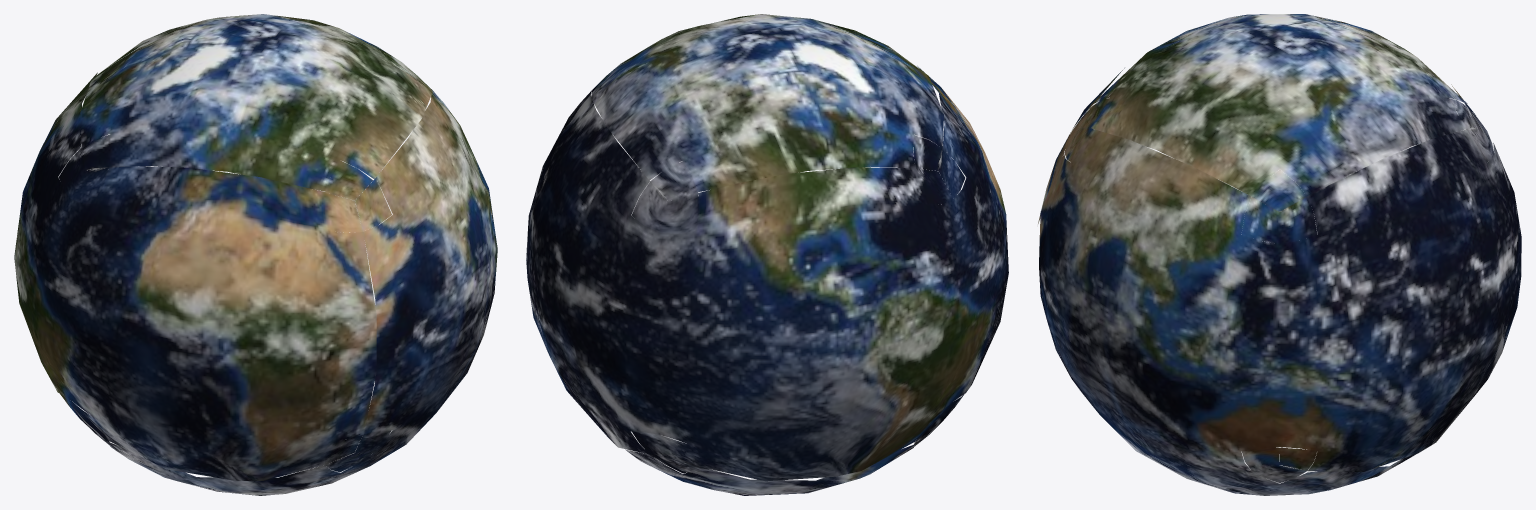
The model's file is earth-small.glb.
3 views of the same model, side by side, from view 1: azimuth 30°, elevation 25°; view 2: azimuth 150°, elevation 25°; view 3: azimuth 270°, elevation 25° (orthographic).
Visible parts, largest first — view 1: Body; view 2: Body; view 3: Body.
Boxes of the visible parts, left/top/right/bottom form: Body: left=14, top=14, right=497, bottom=495; Body: left=526, top=14, right=1008, bottom=495; Body: left=1038, top=14, right=1521, bottom=495.
Bounding box in the file's own units: 2 × 1.99 × 2.
1 material, 1 textured.
